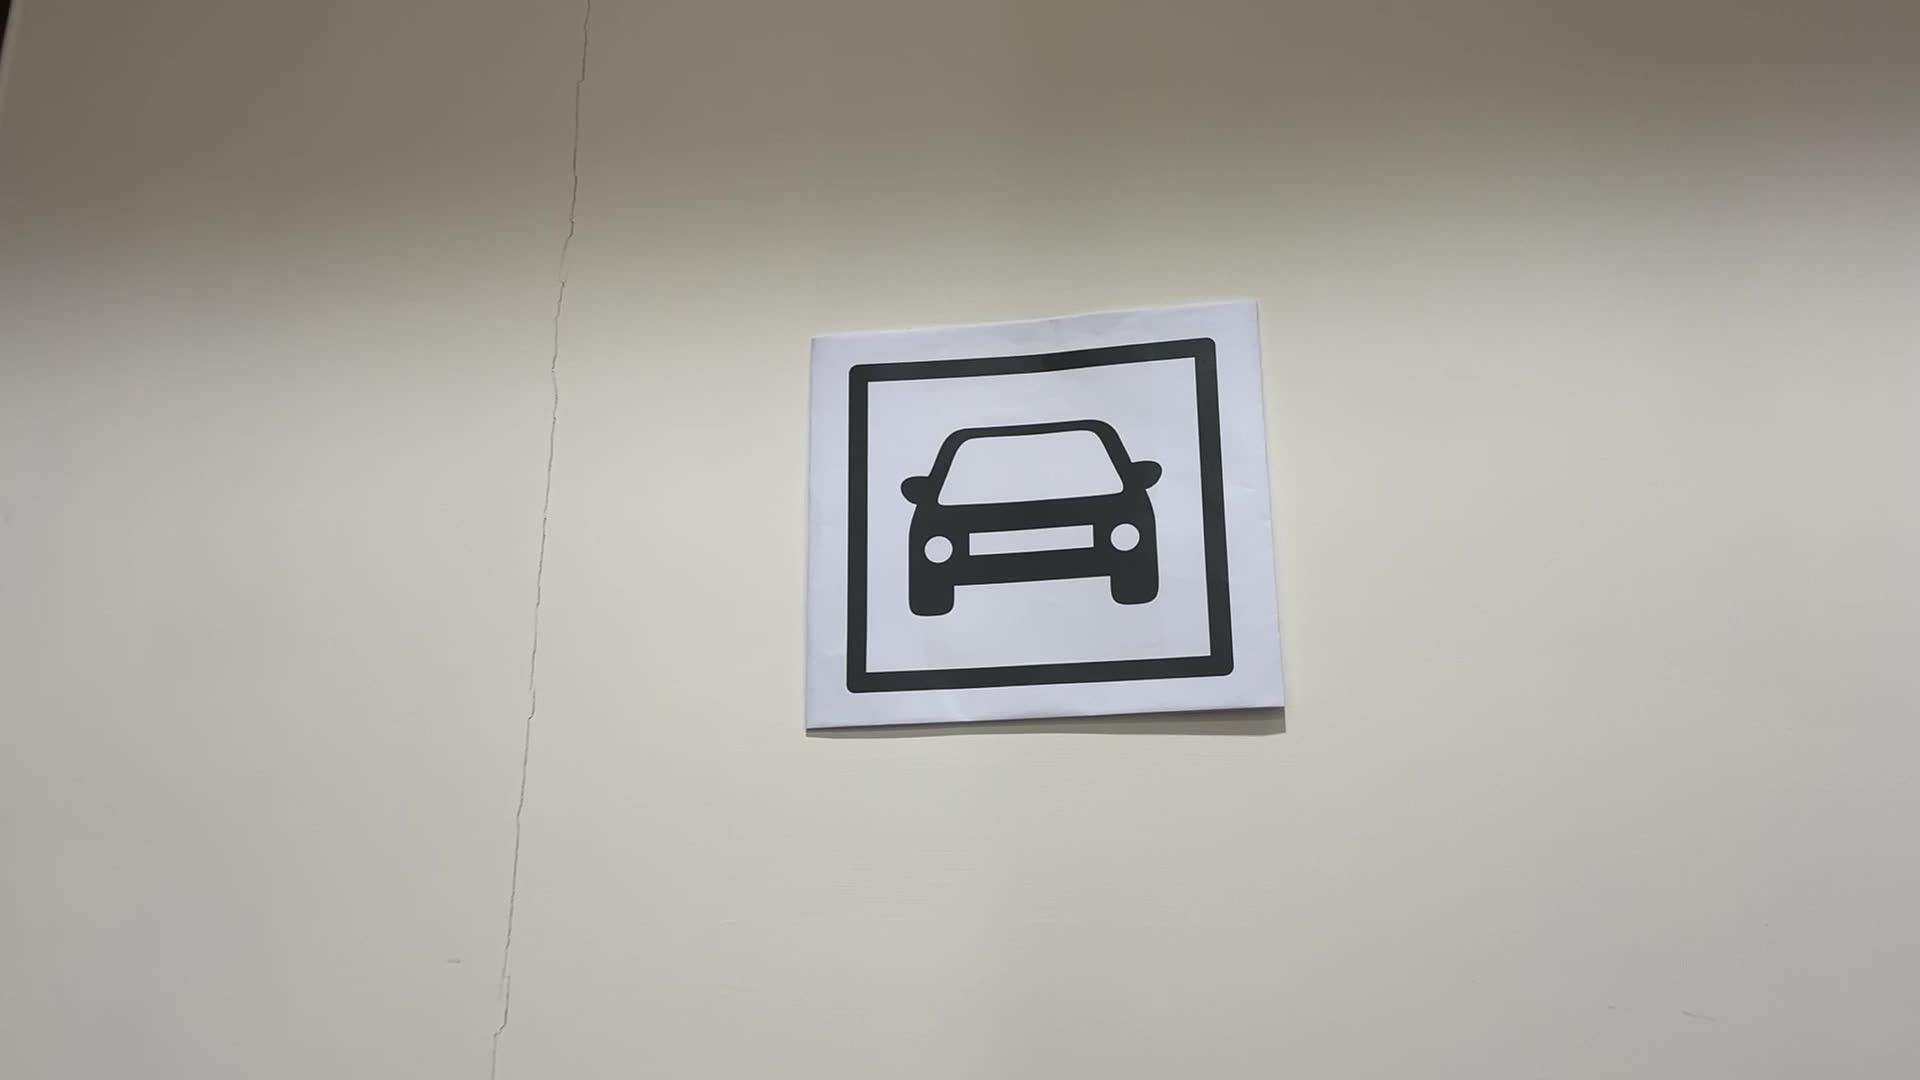car_img: (841, 332, 1237, 699)
